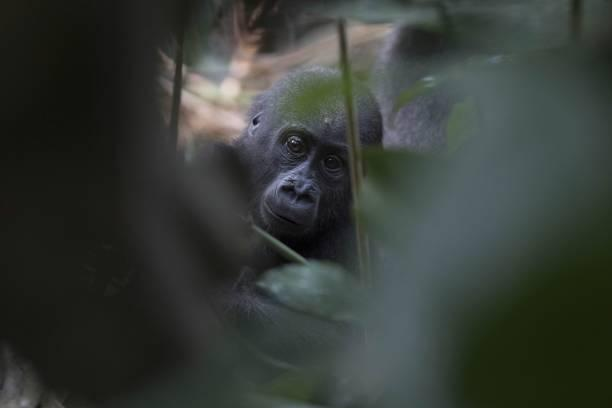gorille_Autres: (183, 48, 410, 274)
